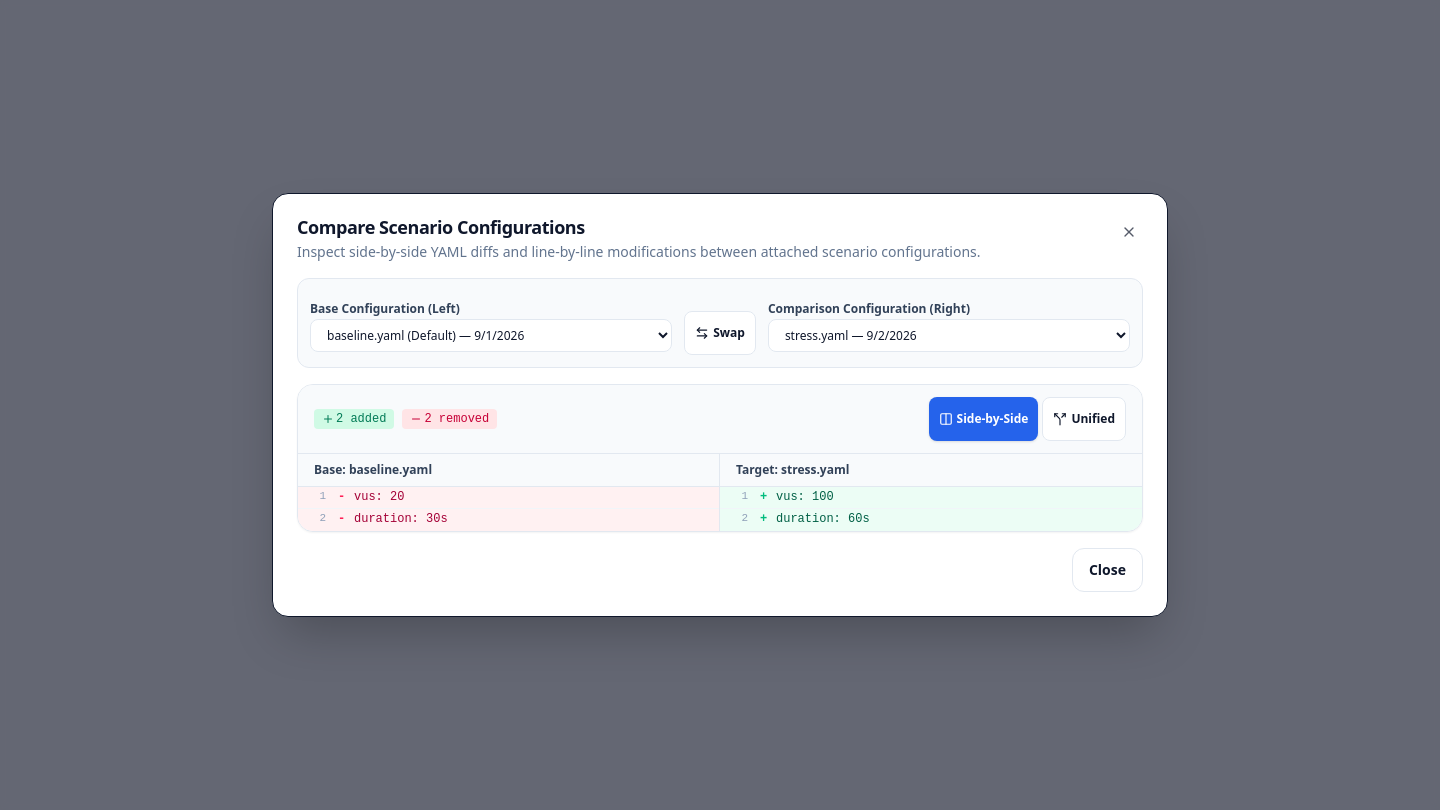
Test: ConfigDiffDialog › allows swapping base and comparison configurations
Step 1. Click the button with aria-label "swap configurations" → x=720, y=333, box 684,311 -> 756,355
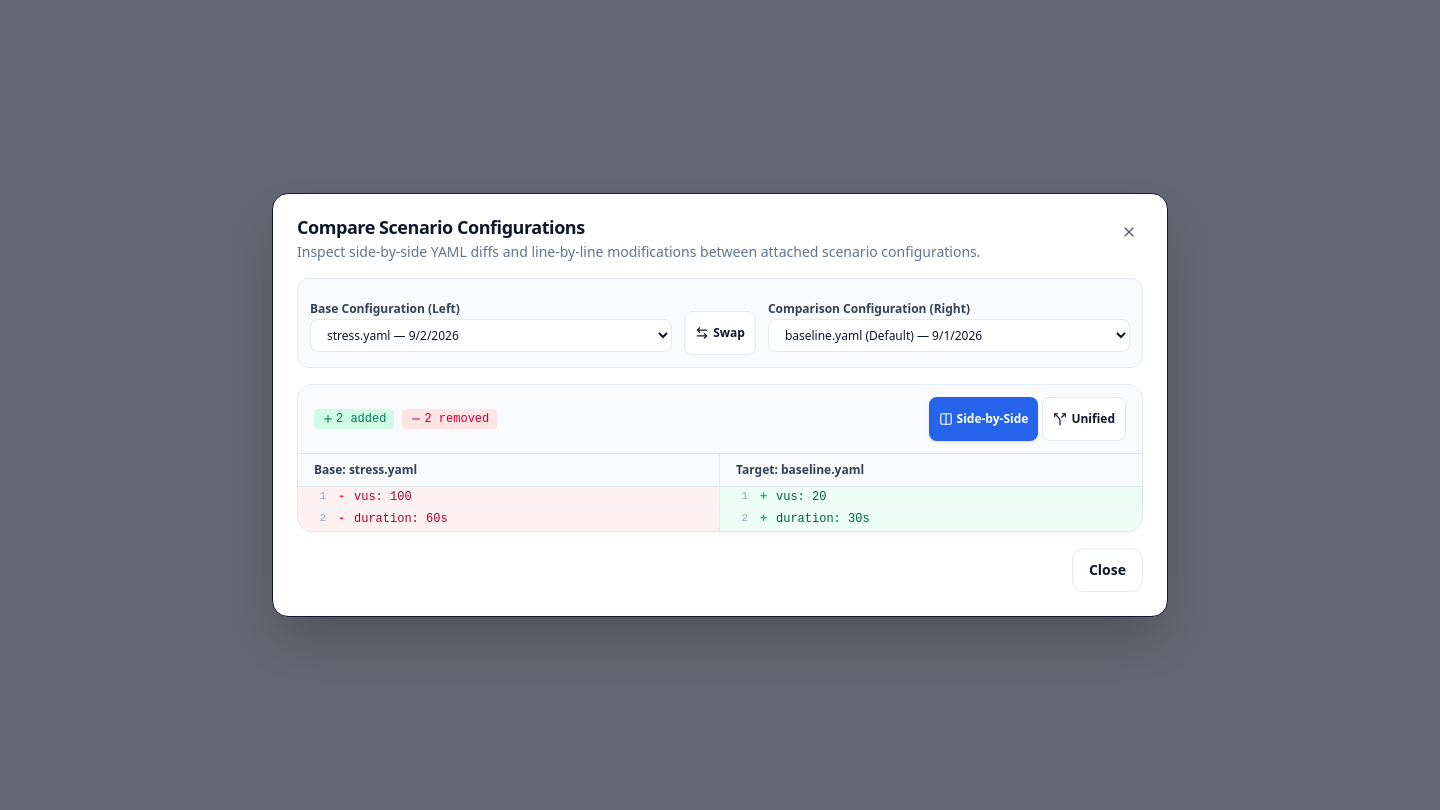
Now the dropdown labelled "Base Configuration (Left)" shows "stress.yaml — 9/2/2026", box 310,318 -> 672,352
Now the dropdown labelled "Comparison Configuration (Right)" shows "baseline.yaml (Default) — 9/1/2026", box 768,318 -> 1130,352
